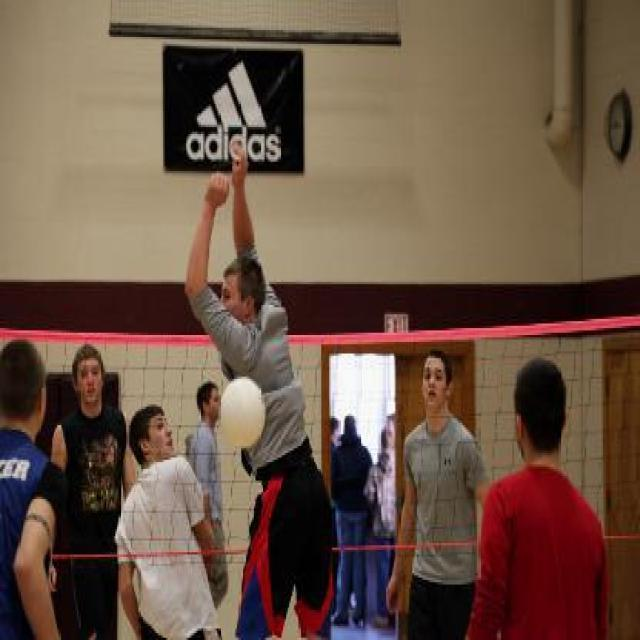volleyball: (221, 378, 264, 444)
